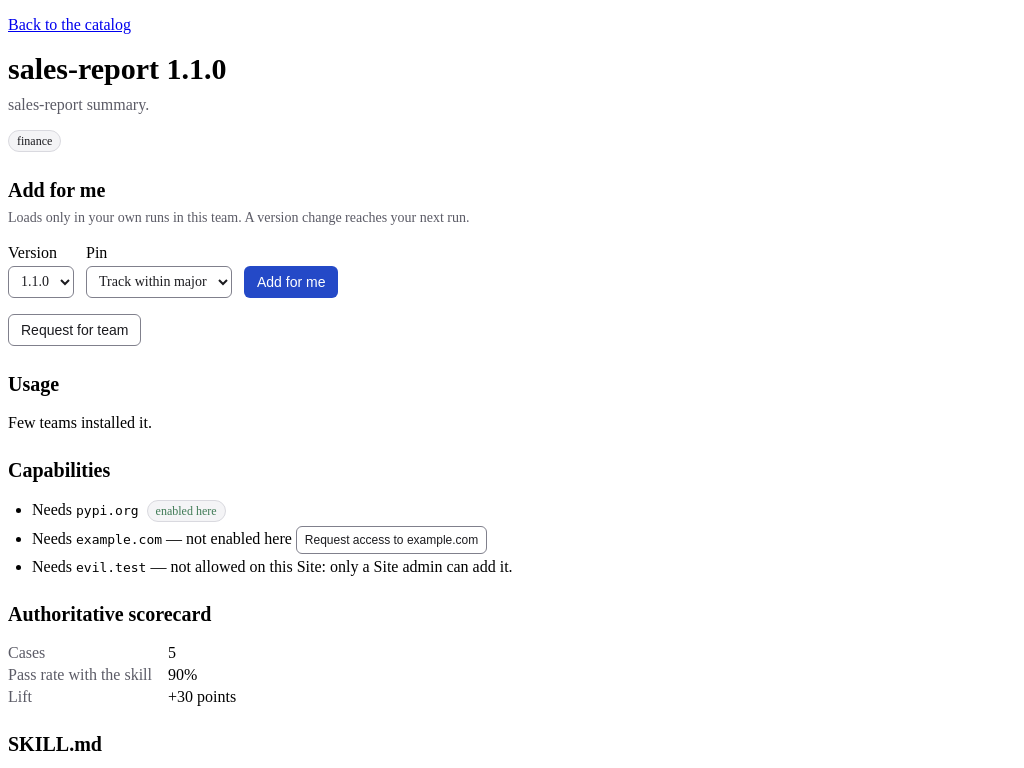
Test: Catalog detail › shows versions, changelogs, the authoritative card, and requests access to a host
Expected: the text "90%" is shown, [168,666,197,682]
Expected: the text "enabled here" is shown, [147,500,226,522]
Click the button "Request access to example.com". click: (392, 540)
box: [296,526,487,554]
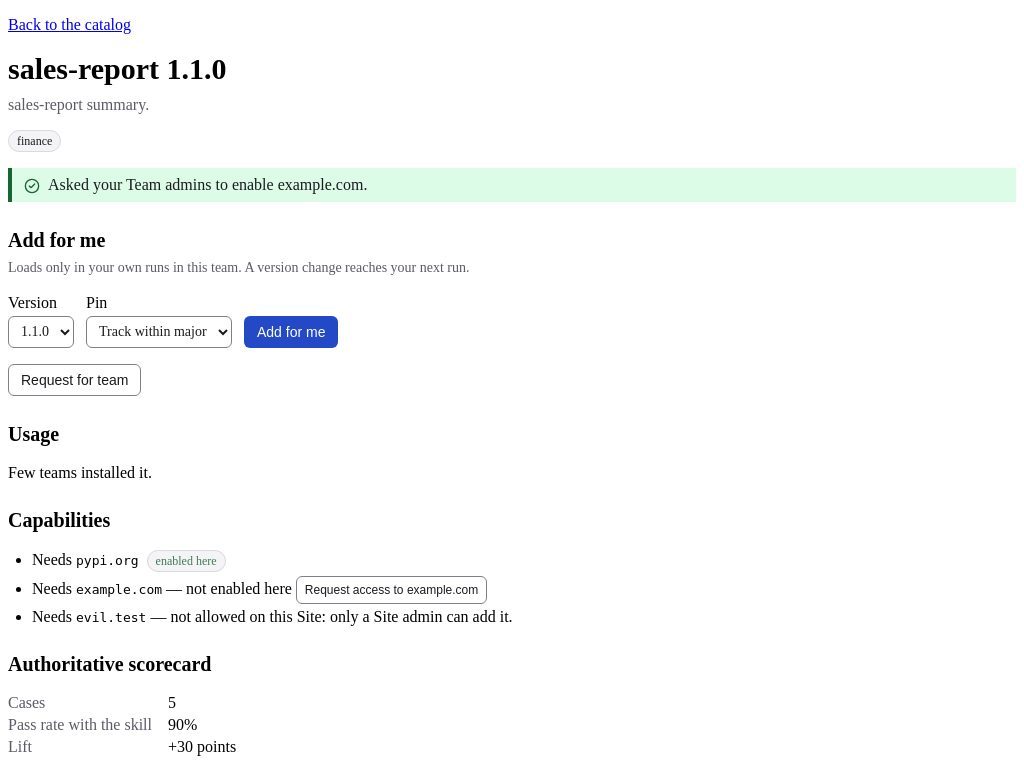
Result: the text "Asked your Team admins to enable example.com." is shown at [48,176,367,192]
